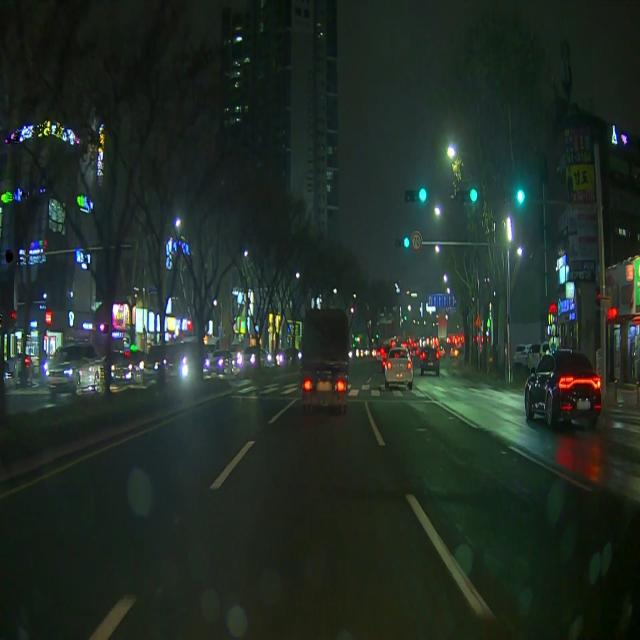Green Light: (515, 188, 525, 205), (419, 187, 427, 203), (470, 189, 478, 202), (404, 237, 409, 249)
